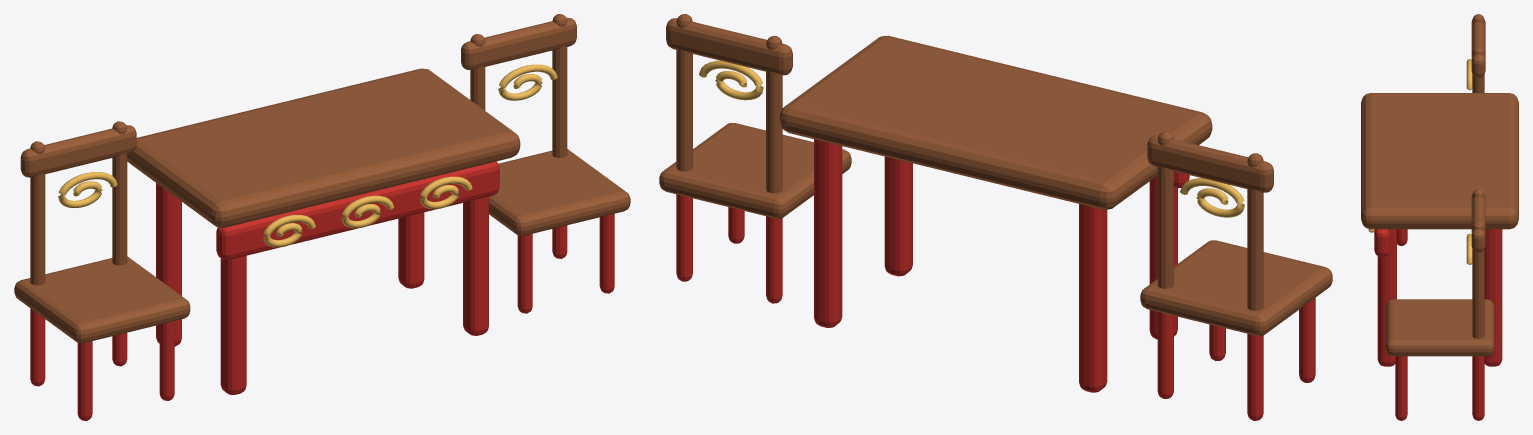
The model's file is stage-table-chairs.glb.
3 renders of one model, left to right at view 1: azimuth 30°, elevation 25°; view 2: azimuth 150°, elevation 25°; view 3: azimuth 270°, elevation 25°, orthographic. The views are drawn at different scales.
Visible parts, largest first — view 1: stage-table-chairs; view 2: stage-table-chairs; view 3: stage-table-chairs.
Boxes of the visible parts, x1,y1,x2,y2 form: stage-table-chairs: [14, 14, 630, 420]; stage-table-chairs: [659, 14, 1332, 420]; stage-table-chairs: [1361, 14, 1518, 420].
Size of the model in its own units: 2.98 by 1.25 by 0.9.
